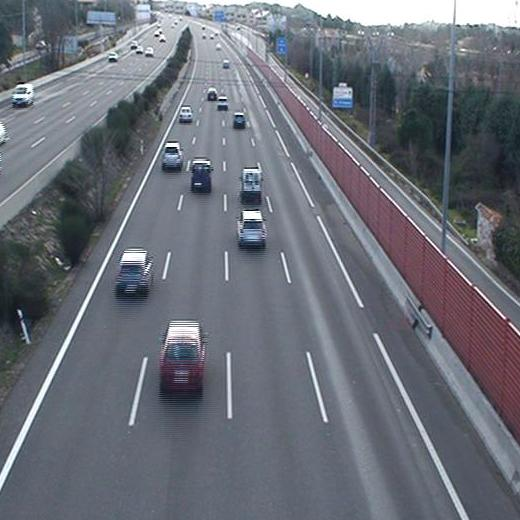car: (160, 324, 205, 392), (116, 251, 153, 295), (236, 211, 268, 247), (161, 142, 184, 170), (179, 106, 192, 123), (217, 96, 230, 111), (232, 112, 244, 128), (205, 88, 216, 100)
van: (239, 168, 264, 202), (191, 160, 213, 192)
